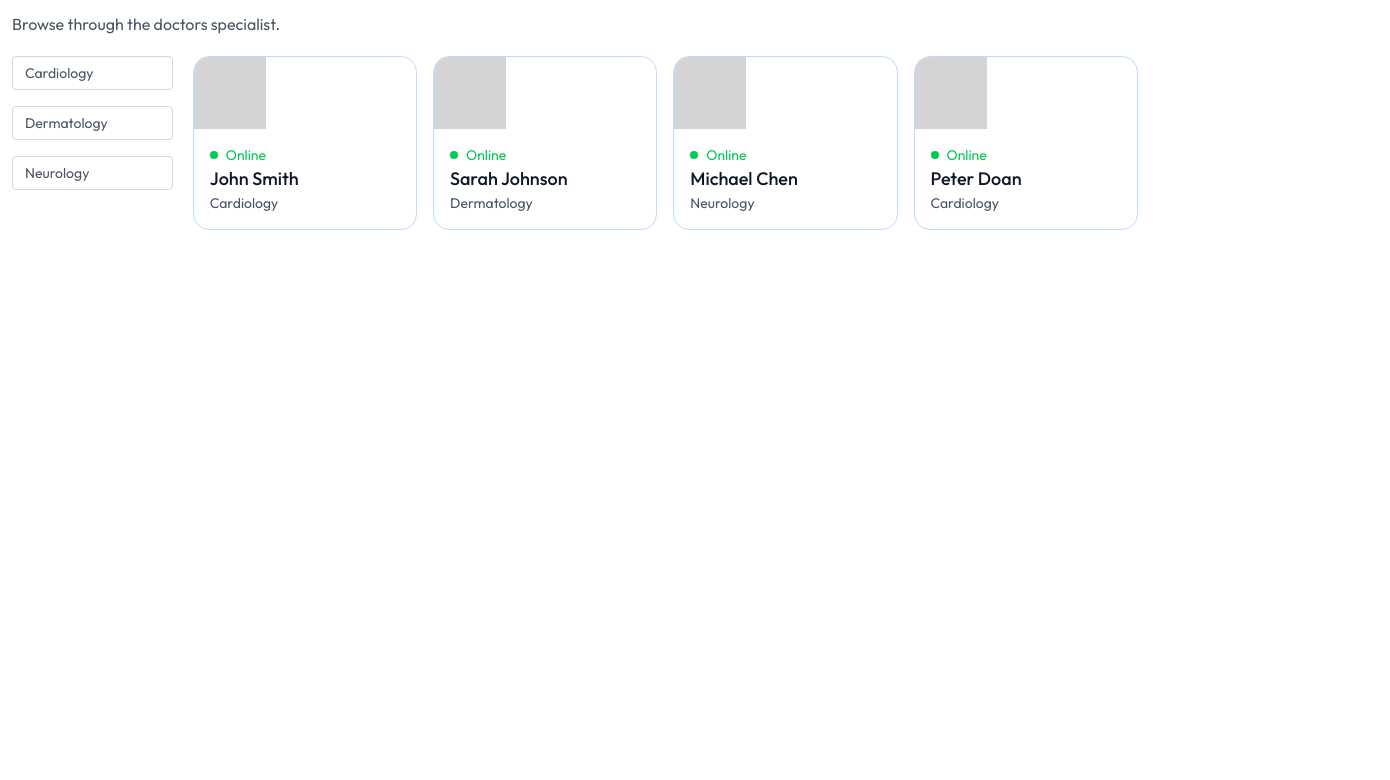
Test: Appointment Booking Flow › should navigate to doctor appointment page
Click on a doctor
Click the text "John Smith". click: (254, 178)
box: left=210, top=167, right=299, bottom=190
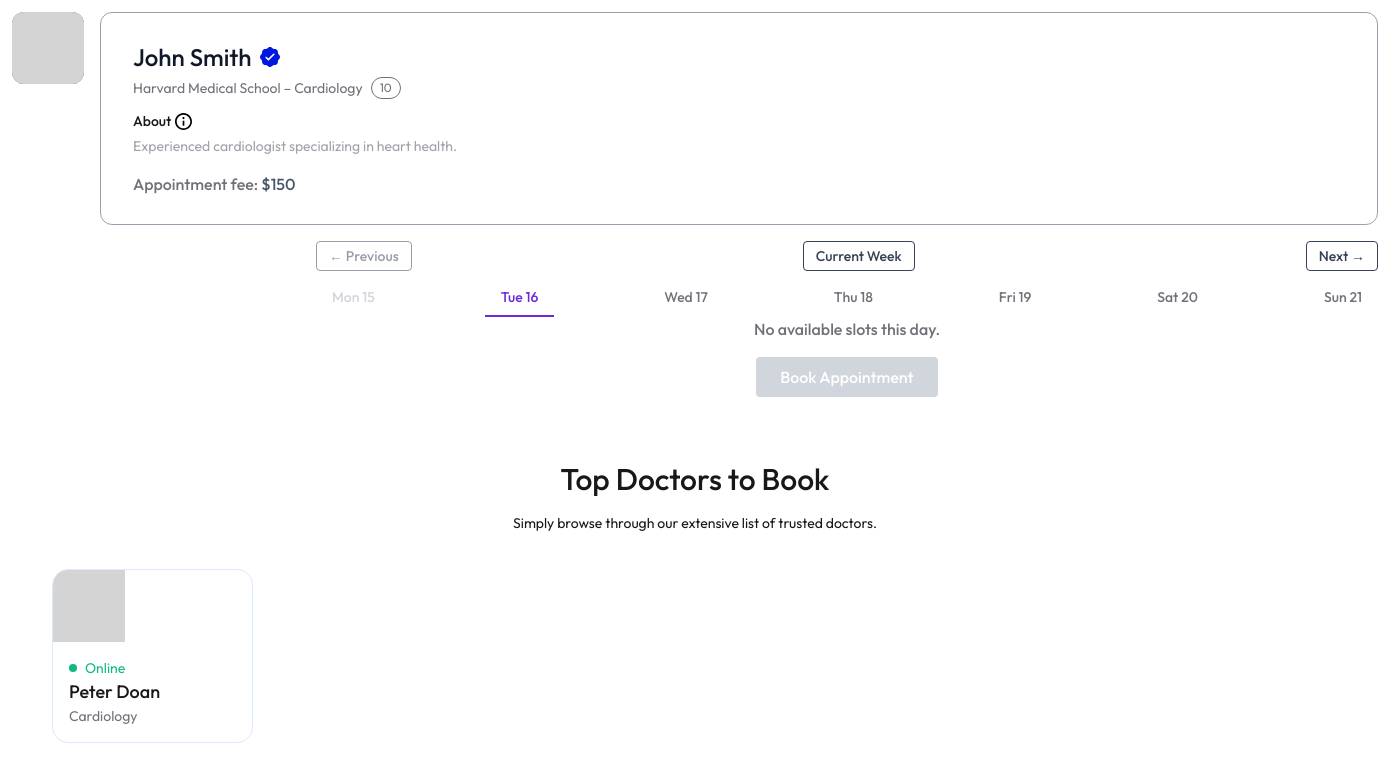
expect the text "Appointment fee: $150" is shown: met, box left=133, top=174, right=296, bottom=194
expect the text "$150" is shown: met, box left=261, top=174, right=296, bottom=194
expect the text "Harvard Medical School – Cardiology" is shown: met, box left=133, top=78, right=363, bottom=98
